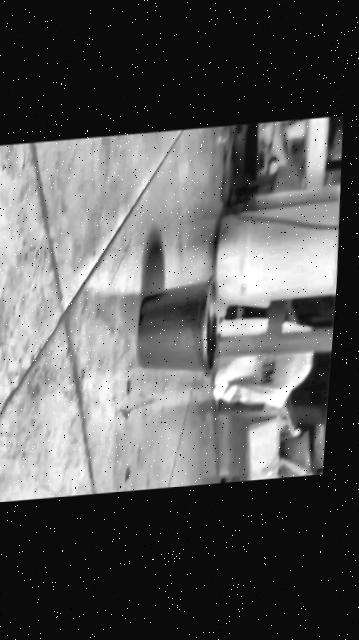pot: (133, 276, 221, 380)
